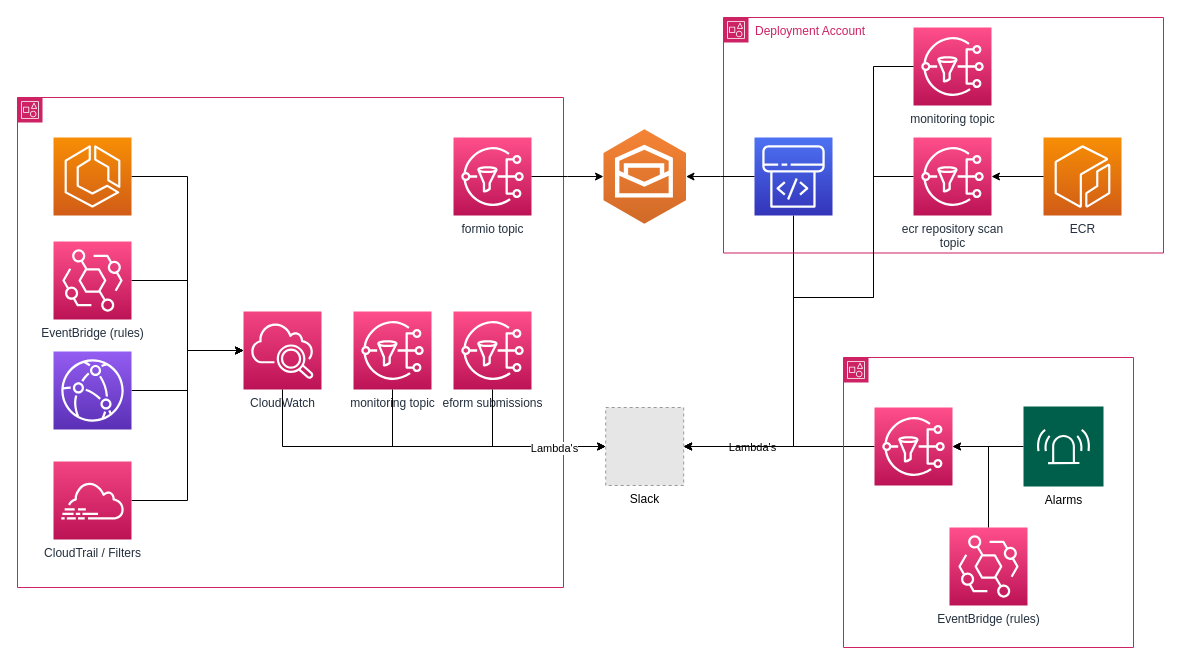
Some shapes in this 1181 by 665 pixel diagram are drawn without their labels. Grey dashed boxes stand in for pictures. The box of each missing label's shape, as (x1, y1, x2, y2) in pixels:
Audit Account: (842, 356, 1134, 648)
Auth Account: (16, 96, 564, 588)
CloudFront: (52, 350, 132, 430)
CodePipeline: (754, 136, 832, 216)
CWAlarm: (874, 406, 952, 486)
ECS (filter): (52, 136, 132, 216)
Mail (notificatie): (602, 128, 686, 224)
